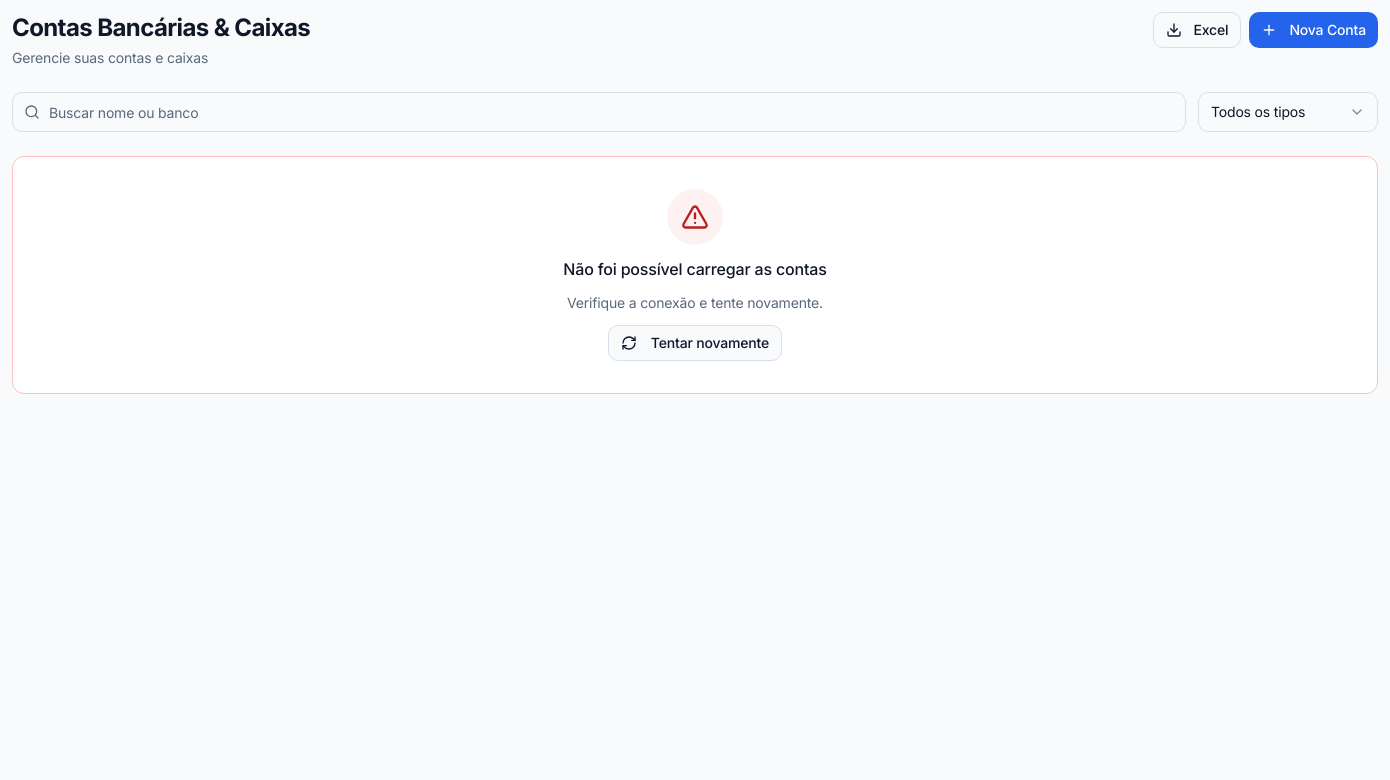
Scenario: Contas Bancárias (V2) › erro ao carregar as contas mostra estado de erro com nova tentativa
The image size is (1390, 780).
Check: the text "Não foi possível carregar as contas" is shown, box [563,259,827,279]
Click the button "Tentar novamente": (695,343) [608,325,782,361]
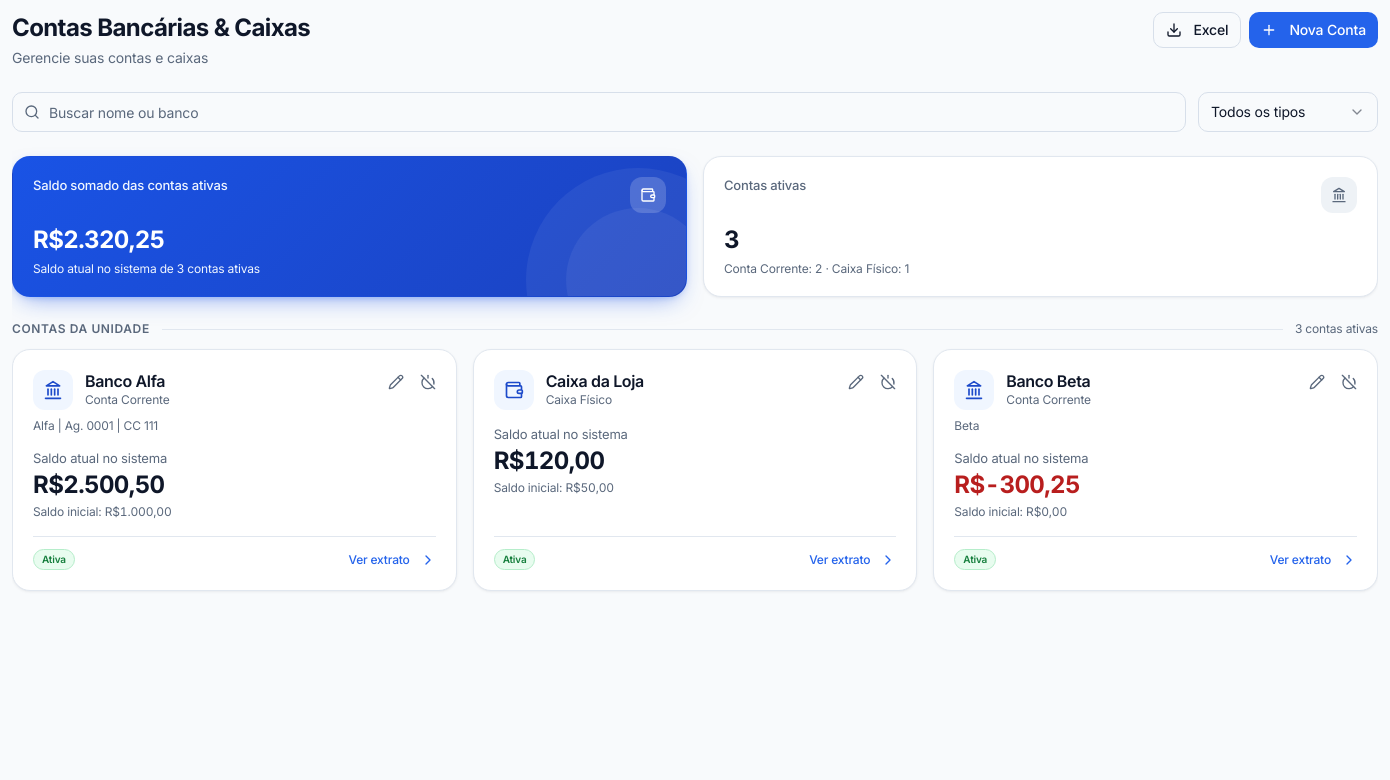
Check: the heading "Banco Alfa" is shown, box [85,371,165,391]
